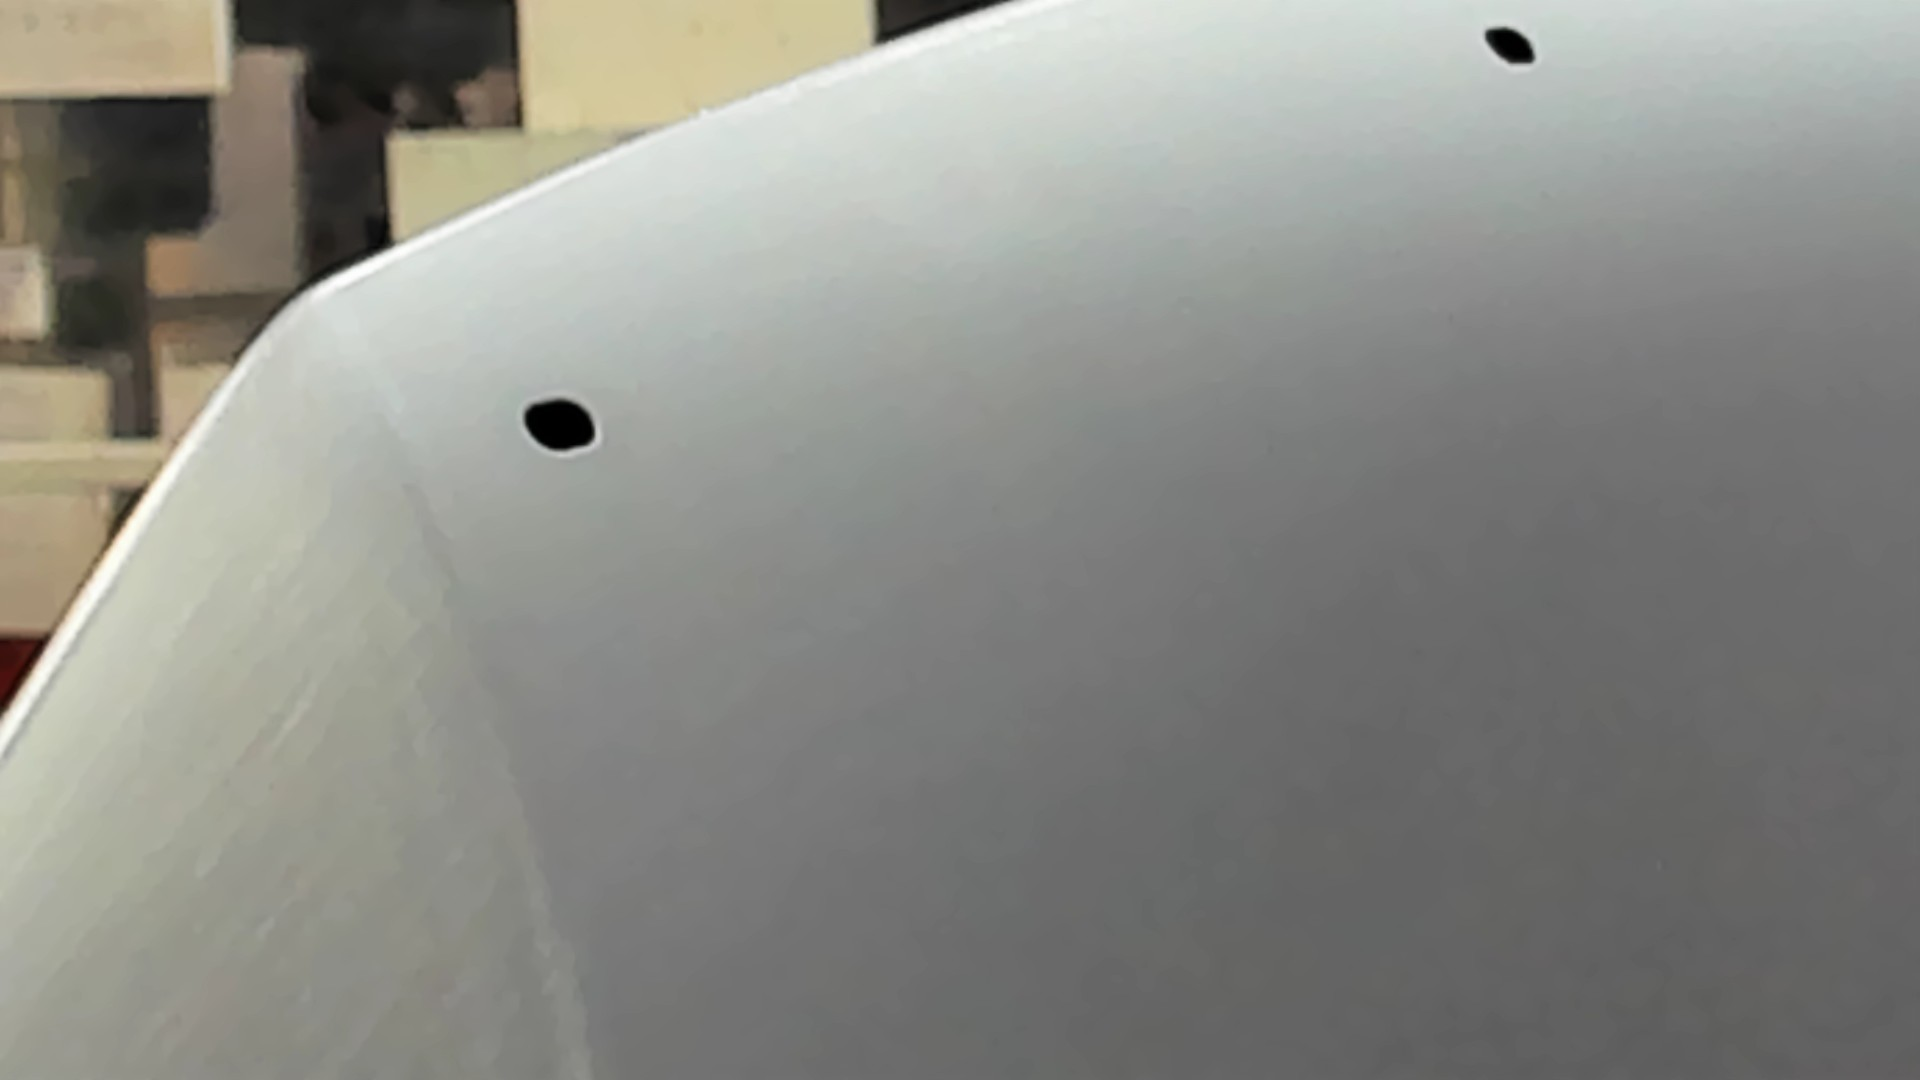amorfo: (518, 396, 604, 454), (1480, 26, 1545, 73)
